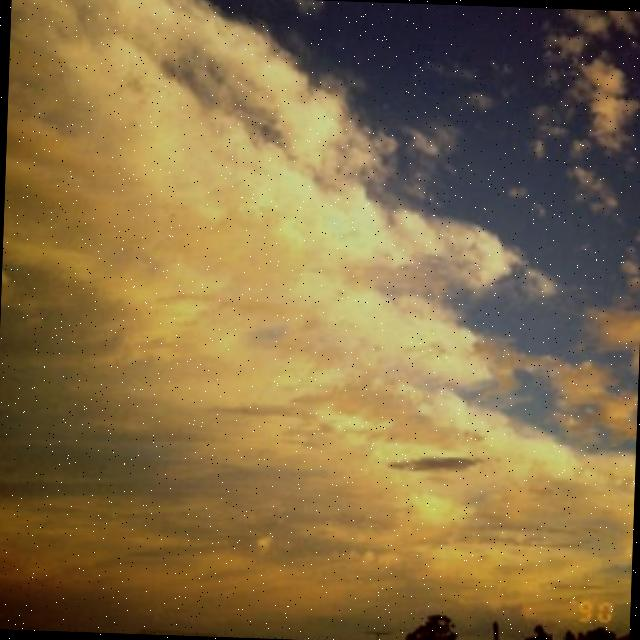As: (1, 16, 640, 474)
